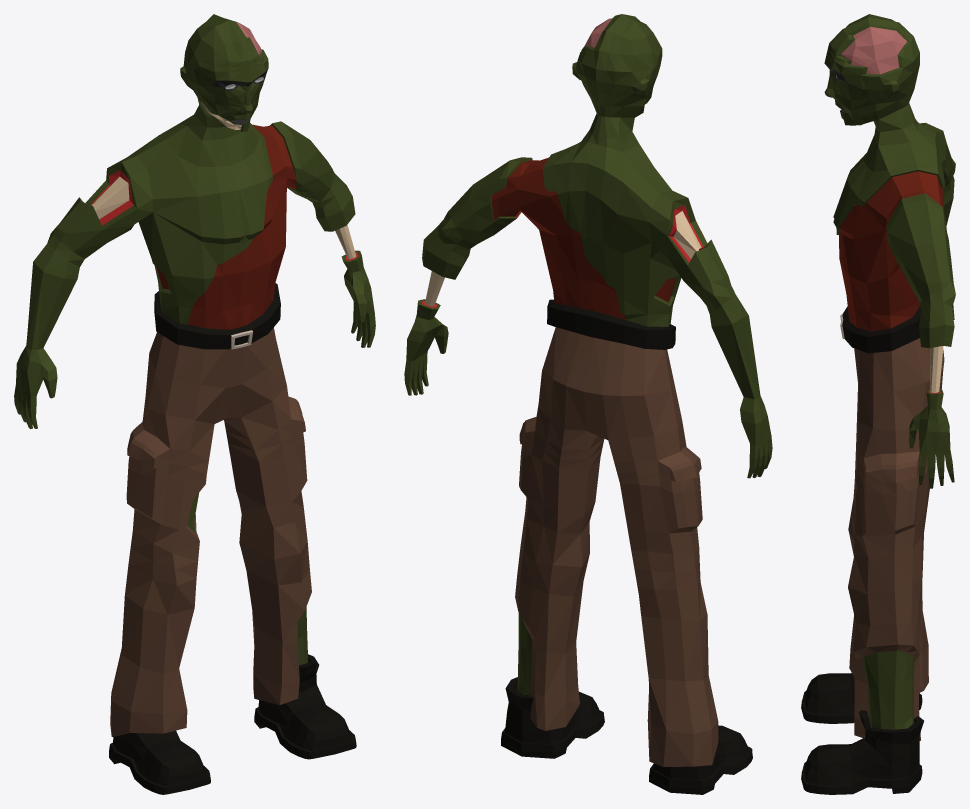
The model's file is Zombie.fbx.
3 renders of one model, left to right at view 1: azimuth 30°, elevation 25°; view 2: azimuth 150°, elevation 25°; view 3: azimuth 270°, elevation 25°, orthographic.
Parts seen in each view (by area): view 1: Body; view 2: Body; view 3: Body.
Part boxes in pixels (x1,y1,x2,y2): Body: [14, 14, 375, 794]; Body: [404, 14, 772, 794]; Body: [801, 14, 955, 794].
Size of the model in its own units: 99.16 by 199 by 38.45.
Materials: 1 (1 with a texture image).
